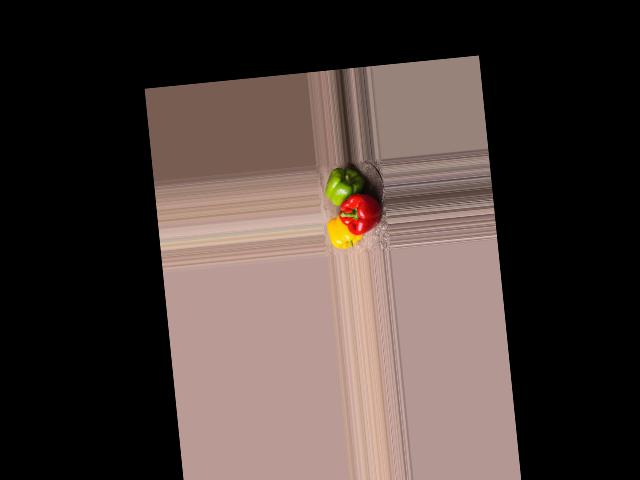bell_pepper: (324, 214, 364, 250)
